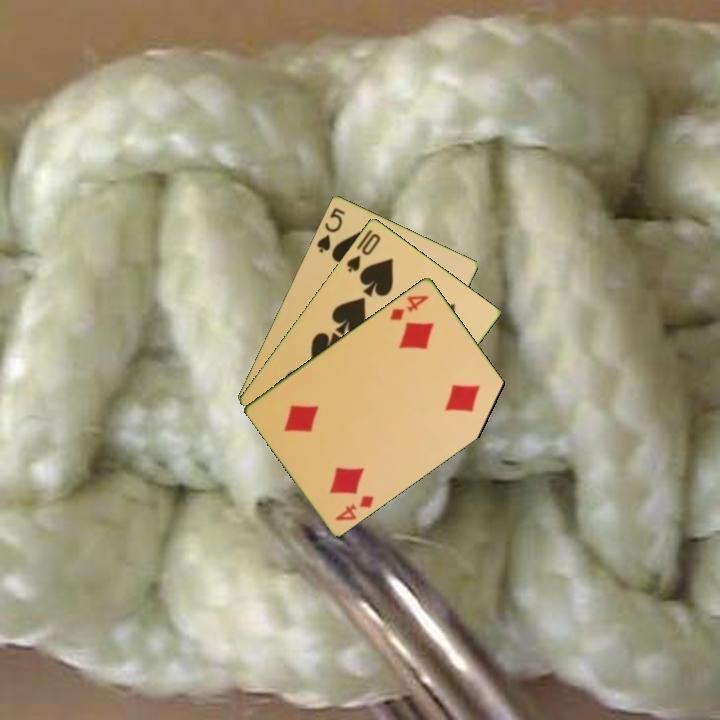10s: (343, 229, 383, 275)
4d: (387, 291, 432, 323), (332, 491, 377, 523)
5s: (313, 203, 348, 255)
